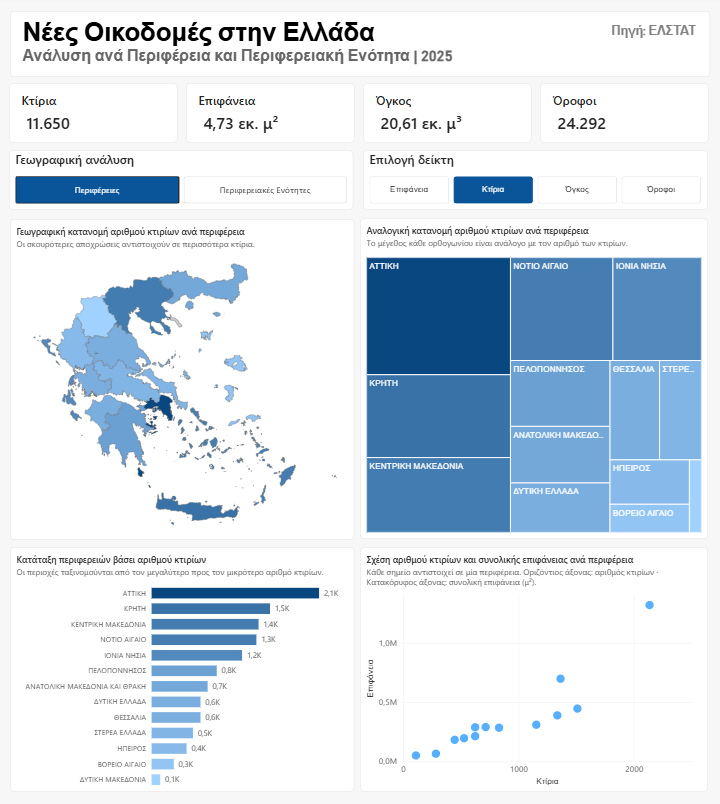

What the dashboard file says about the page in this screenshot:
{"tool":"powerbi","page":{"name":"Page 1","canvas":[1200,1340],"ordinal":0},"visuals":[{"type":"shapeMap","fields":{"Category":["ΠΙΝ1.Περιφέρεια και Περιφερειακή Ενότητα"]},"box":[16.7,364.4,574,535],"z":0},{"type":"clusteredBarChart","fields":{"Category":["ΠΙΝ1.Greek Location Name"],"Y":["Metric Selector.Dynamic Map Value"]},"box":[16,911.5,574,408],"z":1000},{"type":"treemap","fields":{"Group":["ΠΙΝ1.Greek Location Name"],"Values":["Metric Selector.Dynamic Map Value"]},"box":[600,364,580,535],"z":2000},{"type":"scatterChart","fields":{"Category":["ΠΙΝ1.Greek Location Name"],"X":["Sum(ΠΙΝ1.Αριθμός)"],"Y":["Sum(ΠΙΝ1.Επιφάνεια)"]},"box":[600,911,580,408.3],"z":3000},{"type":"bookmarkNavigator","title":"Γεωγραφική ανάλυση","box":[15,250,574,100],"z":8000},{"type":"advancedSlicerVisual","title":"Επιλογή δείκτη","fields":{"Values":["Metric Selector.Metric"]},"box":[605,250,575,100],"z":9000},{"type":"textbox","title":"Title","box":[16.4,18.2,1167.3,110],"z":10000},{"type":"kpi","title":"Κτίρια","fields":{"Indicator":["ΠΙΝ1.Total Buildings KPI"],"TrendLine":["ΠΙΝ1.Περιφέρεια και Περιφερειακή Ενότητα"]},"box":[14.3,138.6,281.4,100],"z":11000},{"type":"kpi","title":"Επιφάνεια","fields":{"Indicator":["ΠΙΝ1.Total Surface KPI"],"TrendLine":["ΠΙΝ1.Περιφέρεια και Περιφερειακή Ενότητα"]},"box":[309.5,138.5,281.4,100],"z":12000},{"type":"kpi","title":"Όγκος","fields":{"Indicator":["ΠΙΝ1.Total Volume KPI"],"TrendLine":["ΠΙΝ1.Περιφέρεια και Περιφερειακή Ενότητα"]},"box":[604.8,138.5,281.4,100],"z":13000},{"type":"kpi","title":"Όροφοι","fields":{"Indicator":["ΠΙΝ1.Total Floors KPI"],"TrendLine":["ΠΙΝ1.Περιφέρεια και Περιφερειακή Ενότητα"]},"box":[900,138.5,281.4,100],"z":14000},{"type":"textbox","box":[971.7,40,188.3,95],"z":15000}]}

Visuals, with their boxes in screenshot pixels (x1, y1, x2, y2), scaled from the page's 1200x1340 canvas onto the 720x804 screenshot:
shapeMap - ΠΙΝ1.Περιφέρεια και Περιφερειακή Ενότητα: (x1=10, y1=219, x2=354, y2=540)
clusteredBarChart - ΠΙΝ1.Greek Location Name x Metric Selector.Dynamic Map Value: (x1=10, y1=547, x2=354, y2=792)
treemap - ΠΙΝ1.Greek Location Name x Metric Selector.Dynamic Map Value: (x1=360, y1=218, x2=708, y2=539)
scatterChart - ΠΙΝ1.Greek Location Name x Sum(ΠΙΝ1.Αριθμός): (x1=360, y1=547, x2=708, y2=792)
"Γεωγραφική ανάλυση" bookmarkNavigator: (x1=9, y1=150, x2=353, y2=210)
"Επιλογή δείκτη" advancedSlicerVisual: (x1=363, y1=150, x2=708, y2=210)
"Title" textbox: (x1=10, y1=11, x2=710, y2=77)
"Κτίρια" kpi: (x1=9, y1=83, x2=177, y2=143)
"Επιφάνεια" kpi: (x1=186, y1=83, x2=355, y2=143)
"Όγκος" kpi: (x1=363, y1=83, x2=532, y2=143)
"Όροφοι" kpi: (x1=540, y1=83, x2=709, y2=143)
textbox: (x1=583, y1=24, x2=696, y2=81)
